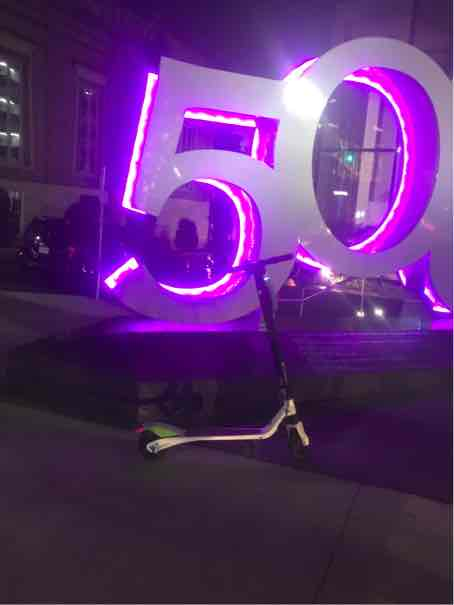scooter: (134, 255, 309, 482)
